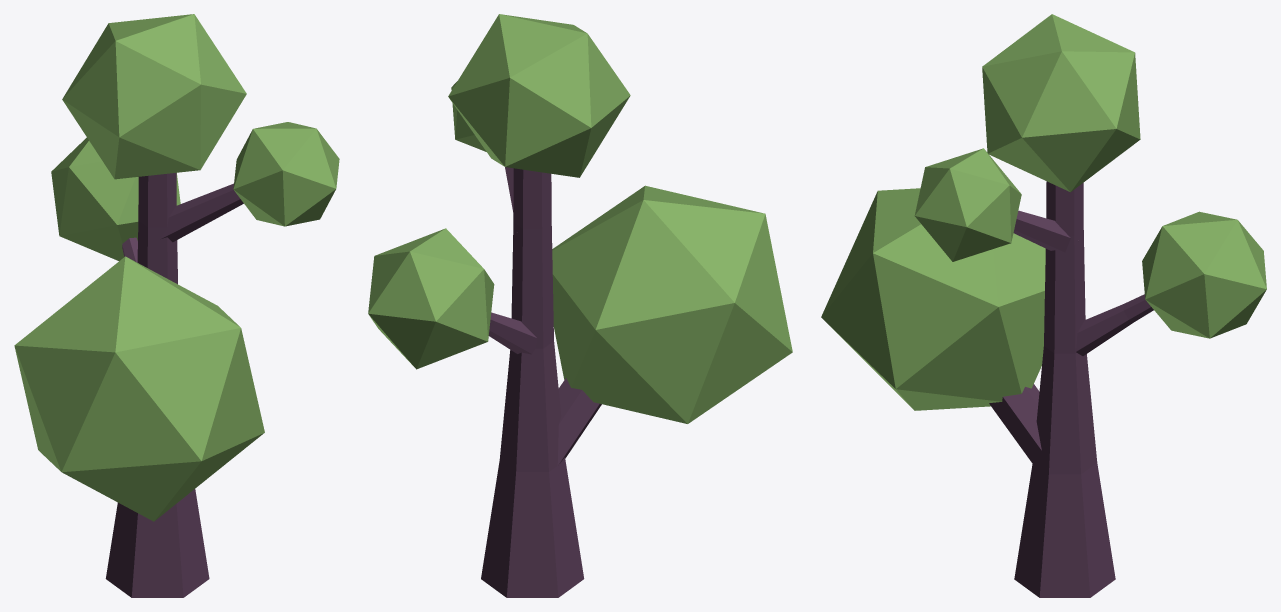
3 views of the same model, side by side, from view 1: azimuth 30°, elevation 25°; view 2: azimuth 150°, elevation 25°; view 3: azimuth 270°, elevation 25° (orthographic). The views are drawn at different scales.
Parts seen in each view (by area): view 1: Cylinder; view 2: Cylinder; view 3: Cylinder.
Boxes of the visible parts, x1=… form: Cylinder: x1=14, y1=14, x2=339, y2=597; Cylinder: x1=368, y1=14, x2=792, y2=597; Cylinder: x1=821, y1=14, x2=1266, y2=597.
Bounding box in the file's own units: 3.21 × 4.09 × 5.52.
